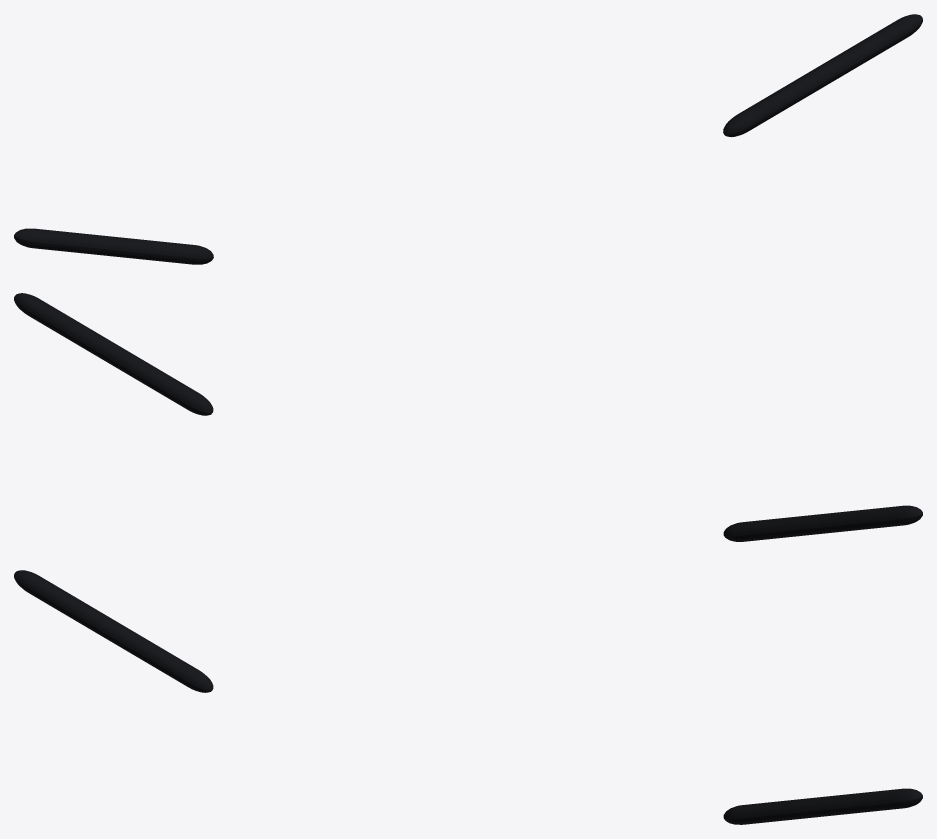
Rendered from eyebrow-evil.glb.
3 renders of one model, top to bottom at view 1: azimuth 30°, elevation 25°; view 2: azimuth 150°, elevation 25°; view 3: azimuth 330°, elevation 25°, orthographic.
Visible parts, largest first — view 1: eyebrow_evil; view 2: eyebrow_evil; view 3: eyebrow_evil.
Boxes of the visible parts, x1,y1,x2,y2 form: eyebrow_evil: (14, 14, 922, 264); eyebrow_evil: (14, 293, 922, 541); eyebrow_evil: (14, 570, 922, 824).
Size of the model in its own units: 33.88 by 2.84 by 0.7633.
Materials: 1 (1 with a texture image).
